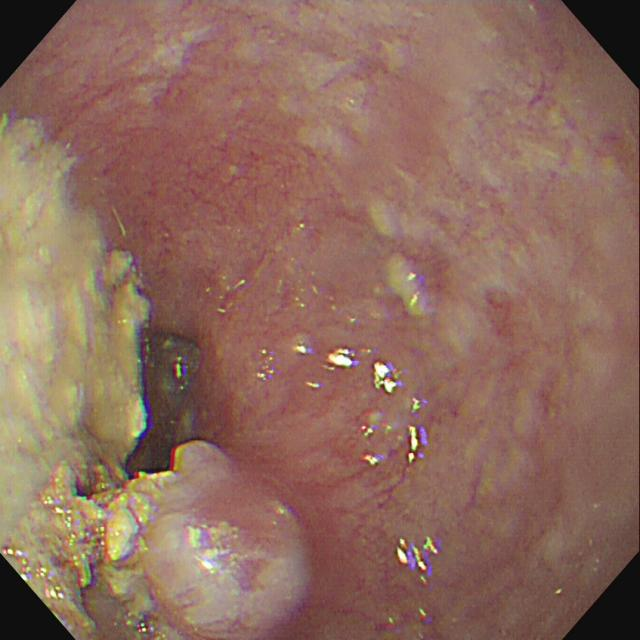B: (2, 102, 158, 640), (157, 438, 312, 636)
U: (395, 537, 439, 588), (358, 424, 383, 468), (324, 347, 360, 374), (373, 362, 401, 395), (407, 425, 429, 467), (294, 342, 312, 357)
